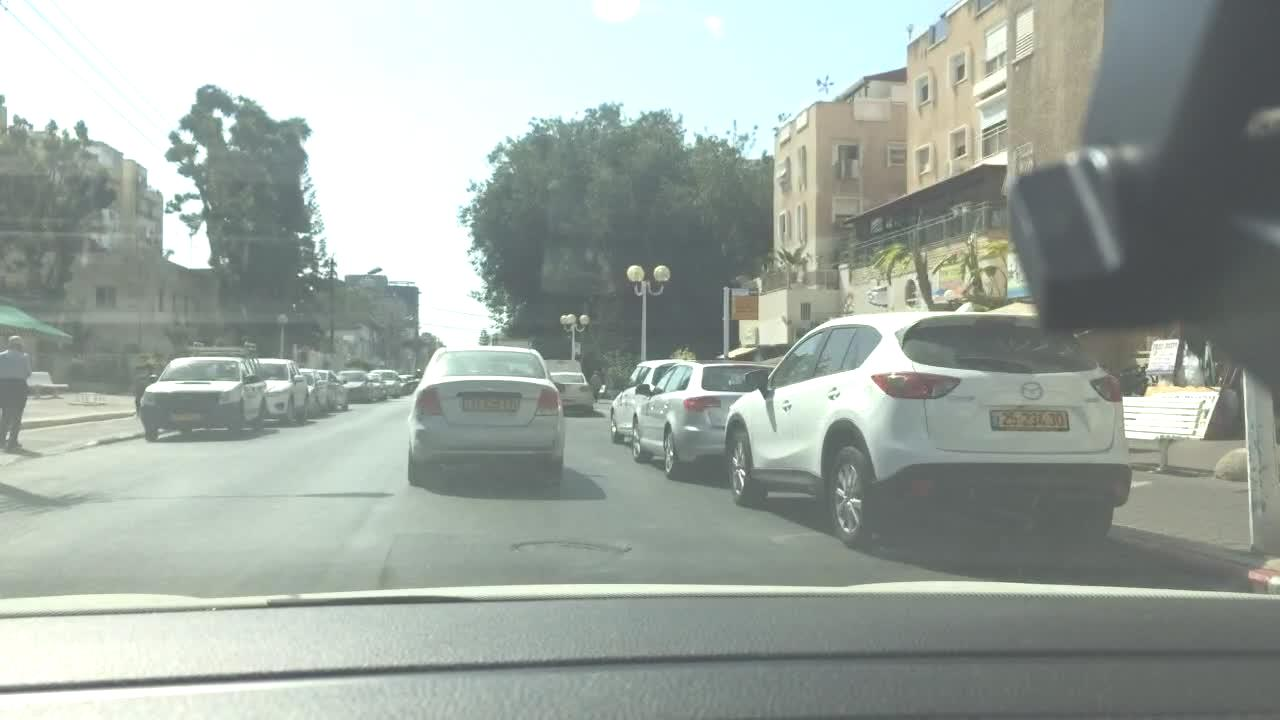Mazda: (1017, 380, 1047, 404)
